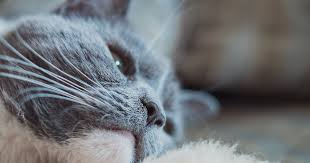cat: (1, 1, 214, 161)
